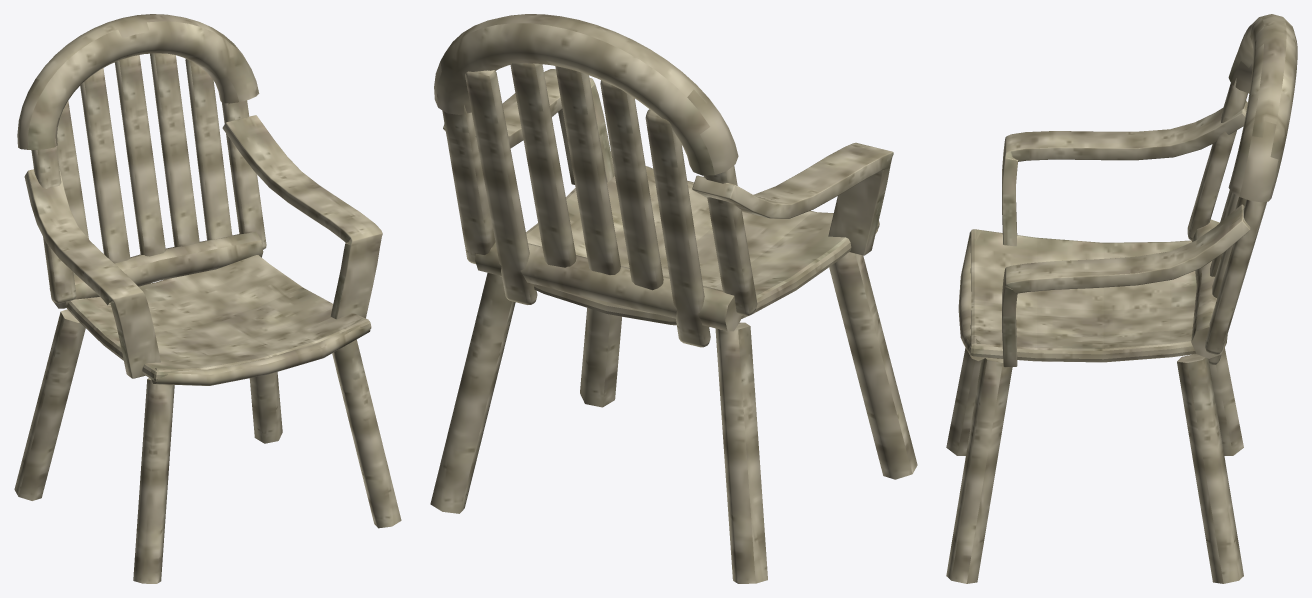
File: by_chair_white.glb
3 views of the same model, side by side, from view 1: azimuth 30°, elevation 25°; view 2: azimuth 150°, elevation 25°; view 3: azimuth 270°, elevation 25° (orthographic). The views are drawn at different scales.
Parts seen in each view (by area): view 1: by_chair_white; view 2: by_chair_white; view 3: by_chair_white.
Part boxes in pixels (x1=…): by_chair_white: x1=14, y1=14, x2=401, y2=583; by_chair_white: x1=430, y1=14, x2=917, y2=583; by_chair_white: x1=946, y1=14, x2=1297, y2=583.
Bounding box in the file's own units: 0.6328 × 0.9626 × 0.6326.
1 material, 1 textured.
